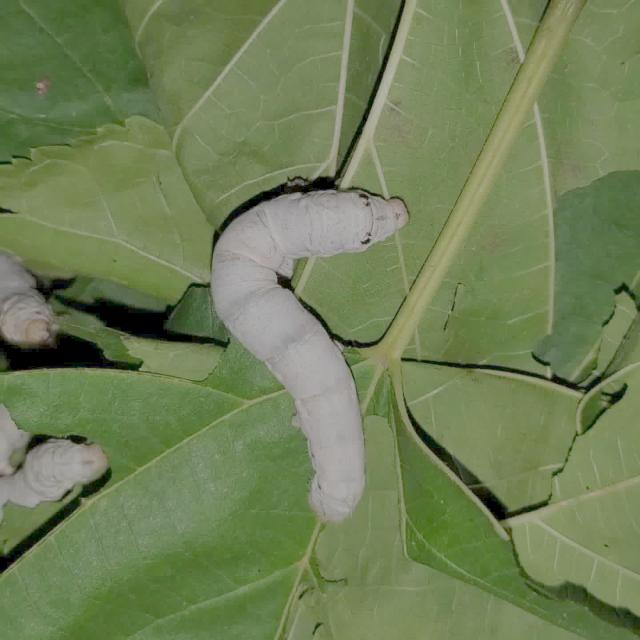Healthy: (191, 160, 481, 544)
